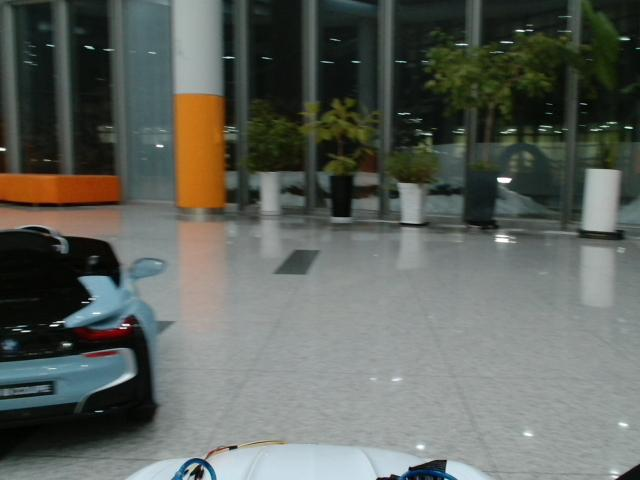car: (1, 225, 167, 443)
